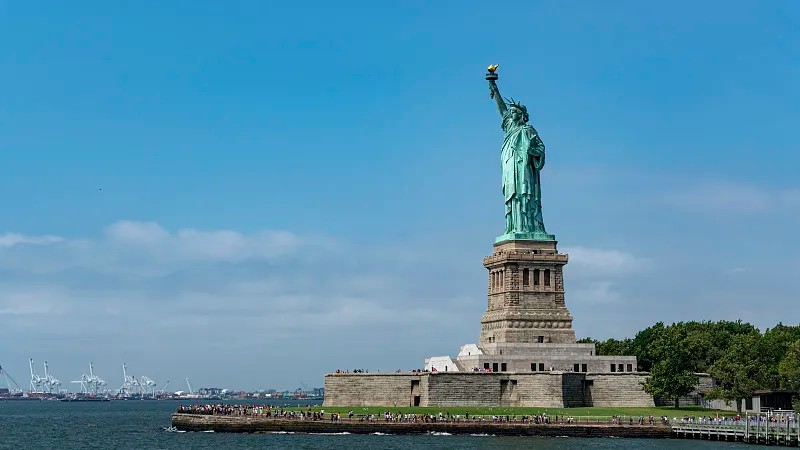SL: (479, 63, 578, 346)
